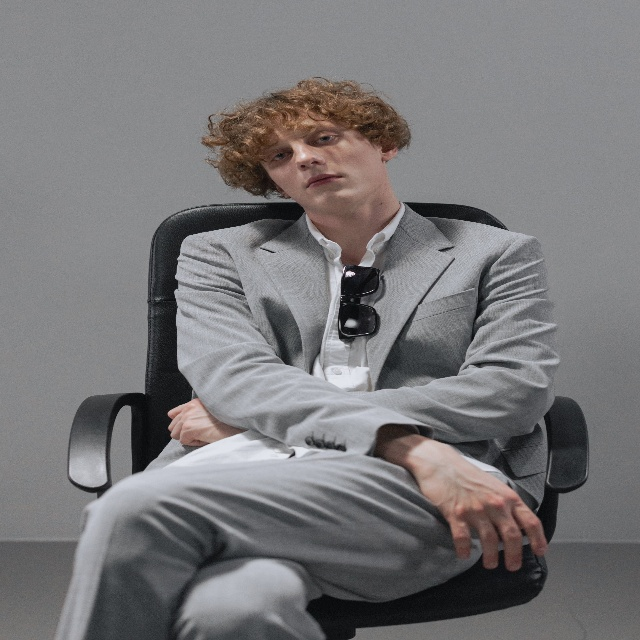Gafas: (337, 264, 380, 342)
Sin_guantes: (409, 436, 545, 571), (168, 399, 234, 447)
